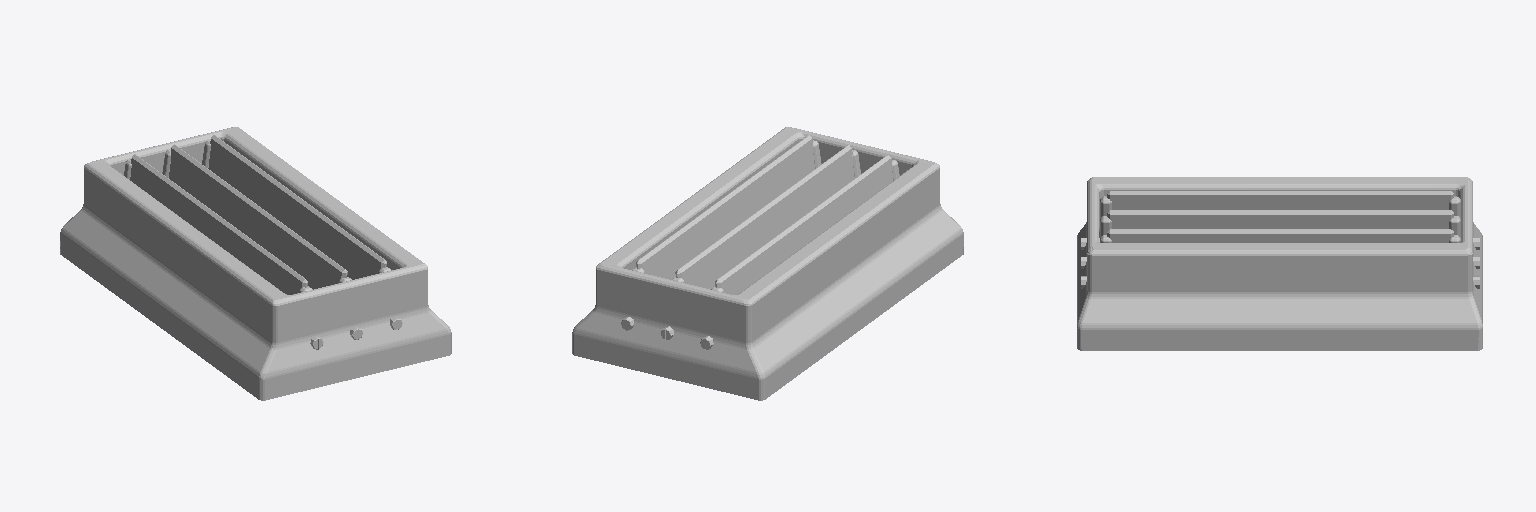
File: Vent_EXsmall_01.obj
3 renders of one model, left to right at view 1: azimuth 30°, elevation 25°; view 2: azimuth 150°, elevation 25°; view 3: azimuth 270°, elevation 25°, orthographic.
Visible parts, largest first — view 1: Vent_EXsmall_01; view 2: Vent_EXsmall_01; view 3: Vent_EXsmall_01.
Part boxes in pixels (x1,y1,x2,y2): Vent_EXsmall_01: (60, 127, 451, 400); Vent_EXsmall_01: (572, 127, 963, 400); Vent_EXsmall_01: (1077, 177, 1482, 350).
Bounding box in the file's own units: 97.25 × 46.15 × 178.